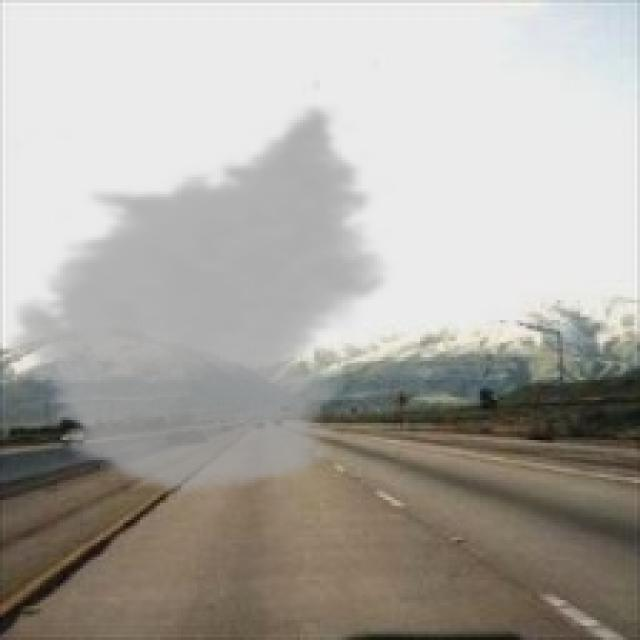smoke: (0, 103, 400, 500)
